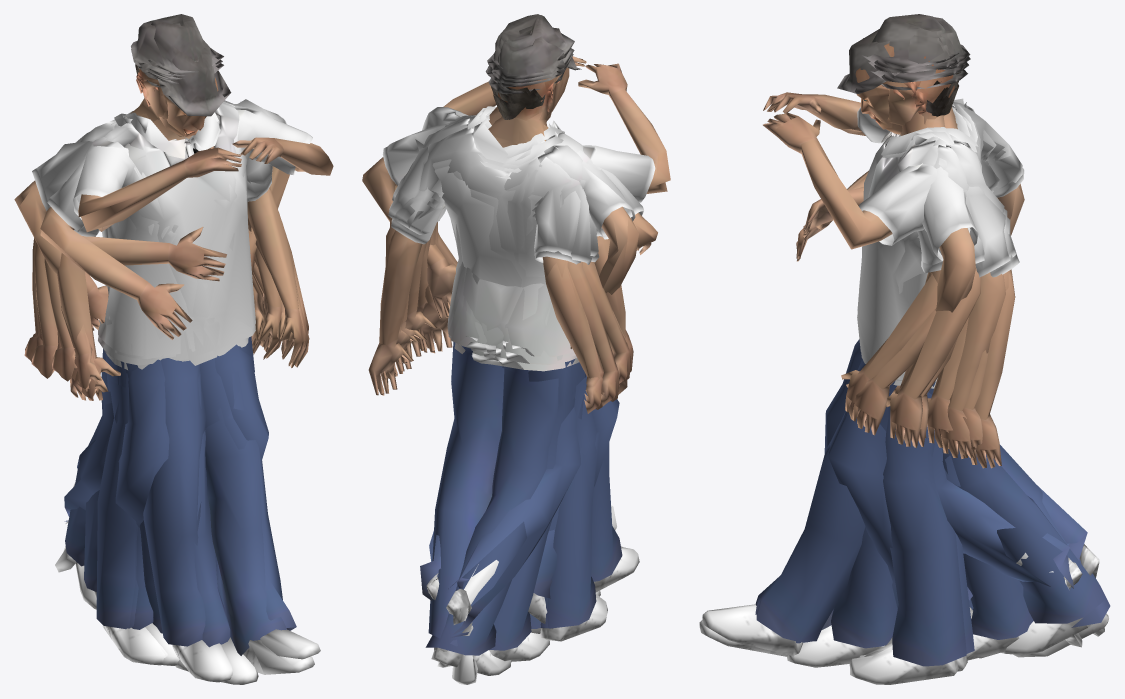
3 views of the same model, side by side, from view 1: azimuth 30°, elevation 25°; view 2: azimuth 150°, elevation 25°; view 3: azimuth 270°, elevation 25° (orthographic). The views are drawn at different scales.
Visible parts, largest first — view 1: geh1, geh6, hueften, steh, foto, geh4, geh0, handy, geh5, reden, geh3, geh2 (+1 smaller); view 2: geh6, geh2, hueften, geh4, geh7, geh3, geh5, geh1, foto, steh, geh0, reden (+1 smaller); view 3: hueften, geh7, geh2, geh5, geh0, foto, geh1, geh4, geh6, geh3, steh, handy (+1 smaller).
Part boxes in pixels (x1,y1,x2,y2): geh1: [30, 70, 305, 682]; geh6: [65, 67, 314, 674]; hueften: [14, 99, 289, 665]; steh: [57, 14, 281, 665]; foto: [73, 106, 333, 238]; geh4: [44, 20, 272, 460]; geh0: [57, 21, 308, 527]; handy: [74, 39, 231, 656]; geh5: [61, 67, 320, 659]; reden: [40, 17, 226, 339]; geh3: [31, 49, 294, 671]; geh2: [24, 73, 309, 684]; geh6: [368, 71, 620, 675]; geh2: [428, 80, 622, 651]; hueften: [362, 107, 638, 641]; geh4: [397, 26, 631, 633]; geh7: [385, 45, 613, 684]; geh3: [416, 52, 619, 667]; geh5: [383, 54, 633, 661]; geh1: [435, 44, 639, 592]; foto: [422, 56, 670, 202]; steh: [418, 14, 627, 597]; geh0: [390, 29, 619, 629]; reden: [487, 15, 657, 254]; hueften: [849, 98, 978, 684]; geh7: [787, 45, 1104, 667]; geh2: [822, 63, 1105, 654]; geh5: [702, 48, 1016, 658]; geh0: [857, 22, 999, 646]; foto: [763, 92, 956, 249]; geh1: [824, 62, 1033, 660]; geh4: [828, 17, 1004, 645]; geh6: [699, 69, 1110, 657]; geh3: [858, 44, 1082, 647]; steh: [859, 16, 974, 671]; handy: [803, 29, 966, 664].
Size of the model in its own units: 0.8401 by 1.79 by 1.04.
1 material, 1 textured.
